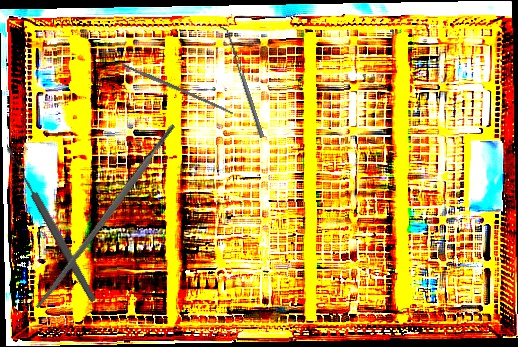Scalpel Handle: (33, 122, 179, 312), (121, 61, 234, 116)
Spatula Surgical: (218, 22, 265, 140)
Surgical Spoon: (3, 144, 99, 304)
